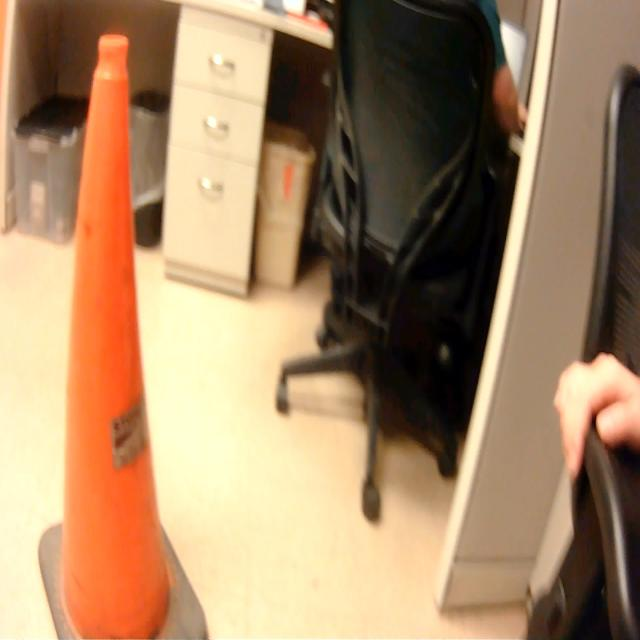traffic cone: (35, 26, 215, 640)
